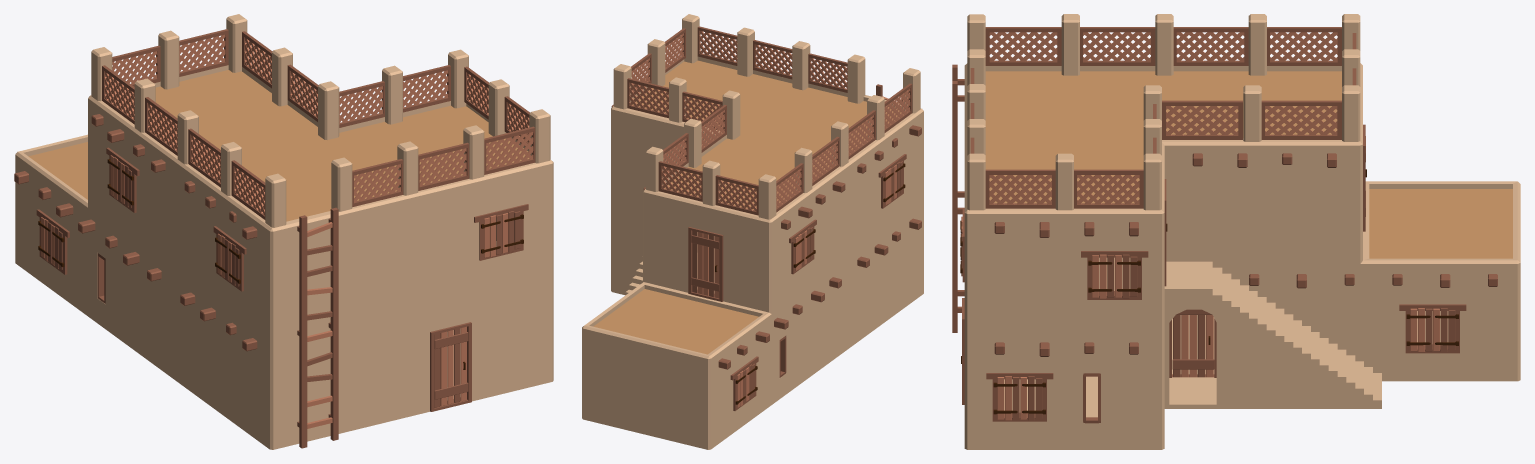
File: Large Building A.fbx
The picture shows the model from 3 angles, left to right: view 1: azimuth 30°, elevation 25°; view 2: azimuth 150°, elevation 25°; view 3: azimuth 270°, elevation 25°; orthographic projection. The views are drawn at different scales.
Parts seen in each view (by area): view 1: Large Building A; view 2: Large Building A; view 3: Large Building A.
Boxes of the visible parts, box(x1,y1,x2,y2) form: Large Building A: box(14, 14, 553, 449); Large Building A: box(582, 14, 923, 449); Large Building A: box(952, 14, 1520, 449).
Size of the model in its own units: 963 by 790 by 1410.
